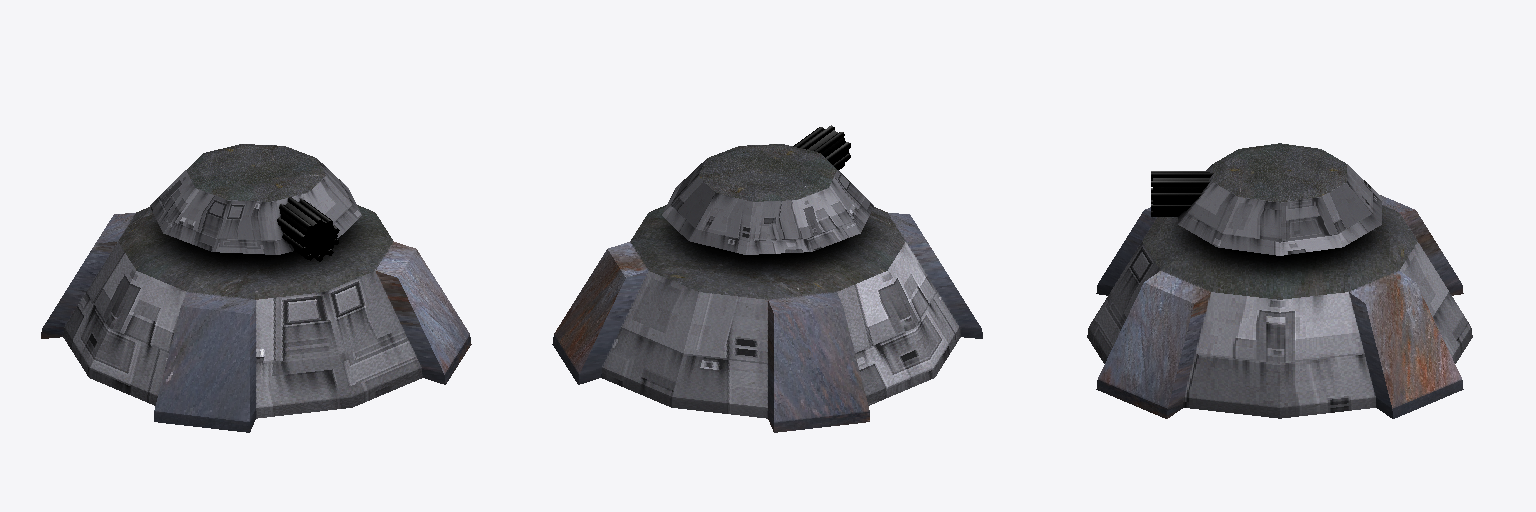
3 renders of one model, left to right at view 1: azimuth 30°, elevation 25°; view 2: azimuth 150°, elevation 25°; view 3: azimuth 270°, elevation 25°, orthographic.
Parts seen in each view (by area): view 1: base, turret__1, barrel; view 2: base, turret__1, barrel; view 3: base, turret__1, barrel.
Part boxes in pixels (bbox=[...]): base: bbox=[41, 205, 471, 432]; turret__1: bbox=[150, 144, 361, 254]; barrel: bbox=[277, 197, 339, 261]; base: bbox=[552, 205, 982, 432]; turret__1: bbox=[662, 144, 873, 254]; barrel: bbox=[793, 125, 850, 169]; base: bbox=[1087, 195, 1472, 418]; turret__1: bbox=[1178, 143, 1381, 255]; barrel: bbox=[1151, 171, 1213, 216].
Size of the model in its own units: 5.83 by 2.88 by 5.83.
Materials: 3 (3 with a texture image).